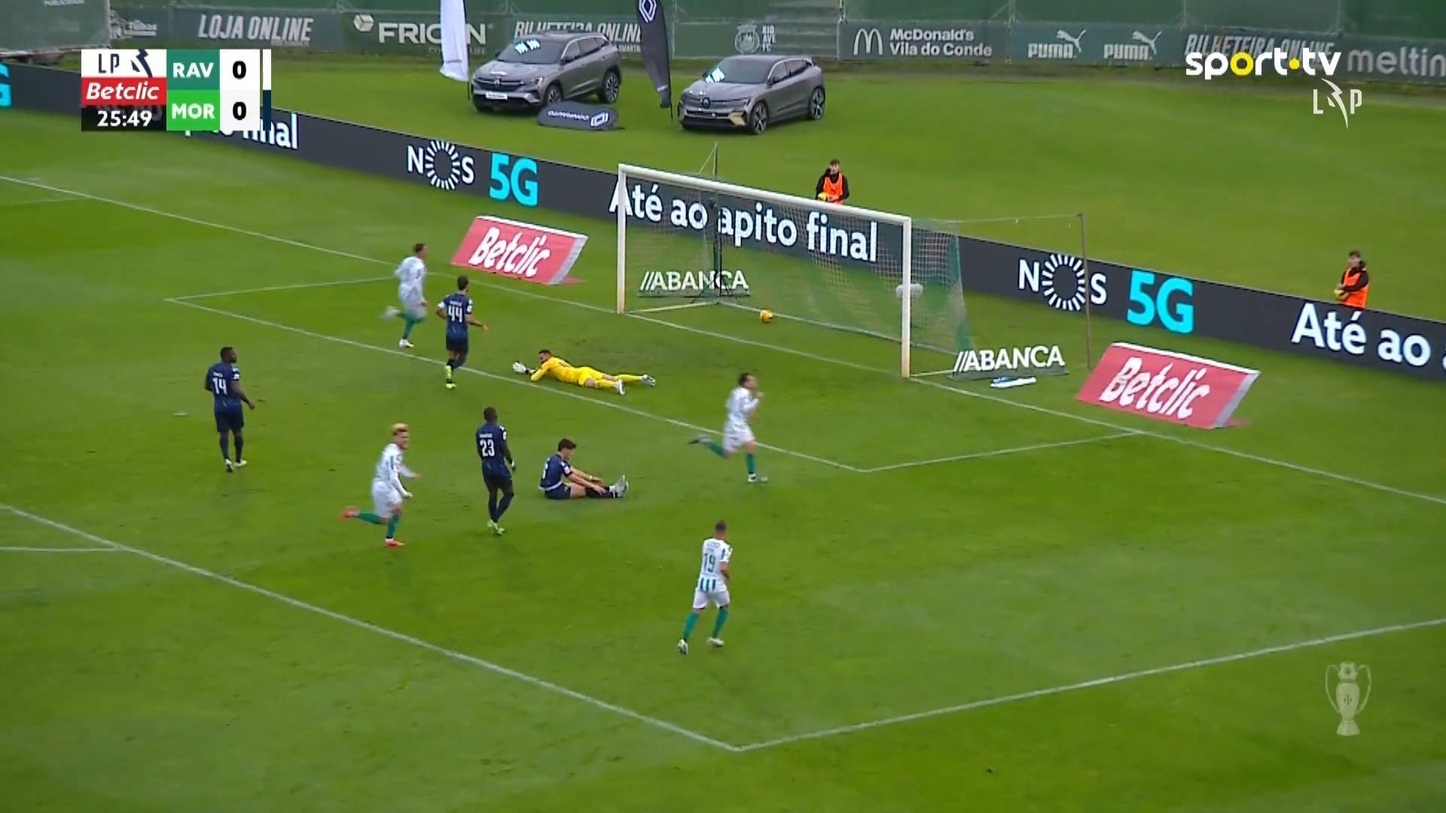ball: (759, 309, 773, 322)
goalkeeper: (511, 349, 656, 396)
player: (337, 422, 420, 547), (688, 370, 769, 483), (675, 519, 734, 654), (203, 345, 255, 473), (434, 274, 488, 389), (537, 437, 628, 500), (474, 406, 517, 535), (381, 241, 430, 349)
